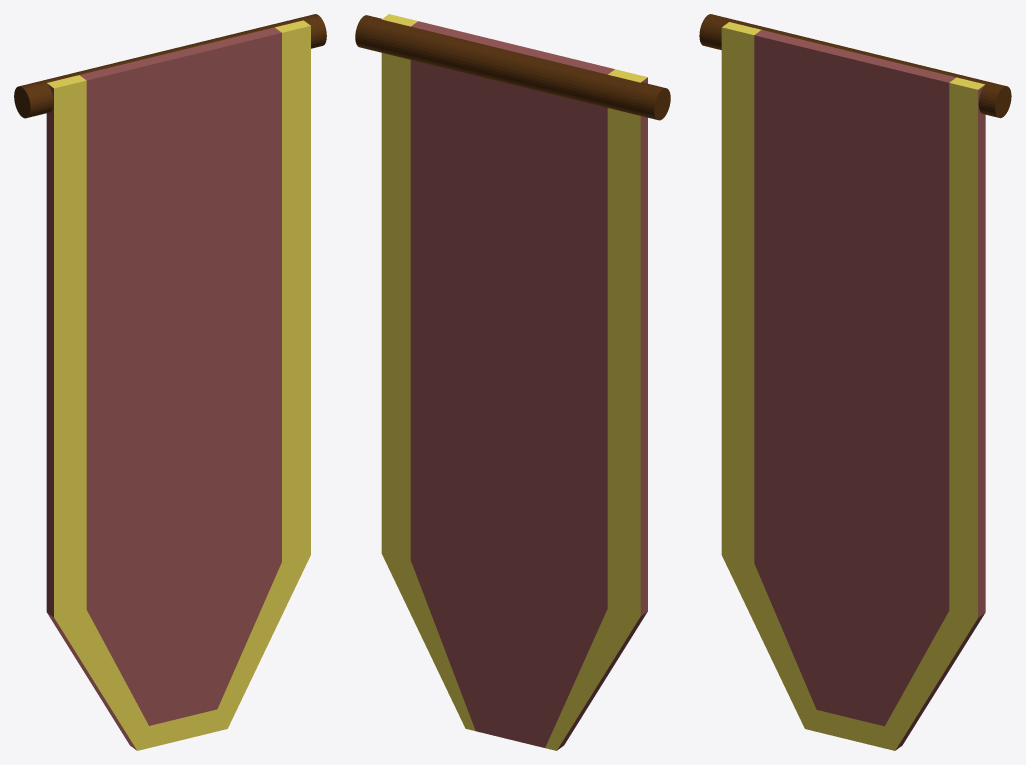
Rendered from Banner.fbx.
The picture shows the model from 3 angles, left to right: view 1: azimuth 30°, elevation 25°; view 2: azimuth 150°, elevation 25°; view 3: azimuth 330°, elevation 25°; orthographic projection.
Parts seen in each view (by area): view 1: Cylinder.004; view 2: Cylinder.004; view 3: Cylinder.004.
Boxes of the visible parts, left/top/right/bottom form: Cylinder.004: left=14, top=14, right=326, bottom=750; Cylinder.004: left=355, top=14, right=670, bottom=750; Cylinder.004: left=699, top=14, right=1011, bottom=750.
Size of the model in its own units: 614 by 1353 by 61.13.
